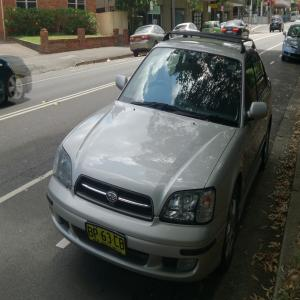Vehicle-registration-plate: (86, 221, 128, 262), (136, 38, 141, 44)
